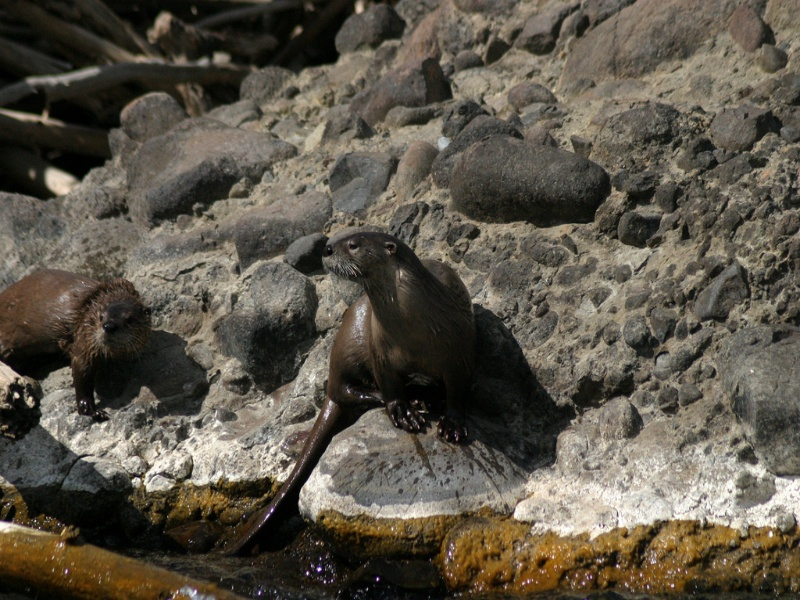minkish: (229, 229, 481, 563), (1, 265, 158, 422)
